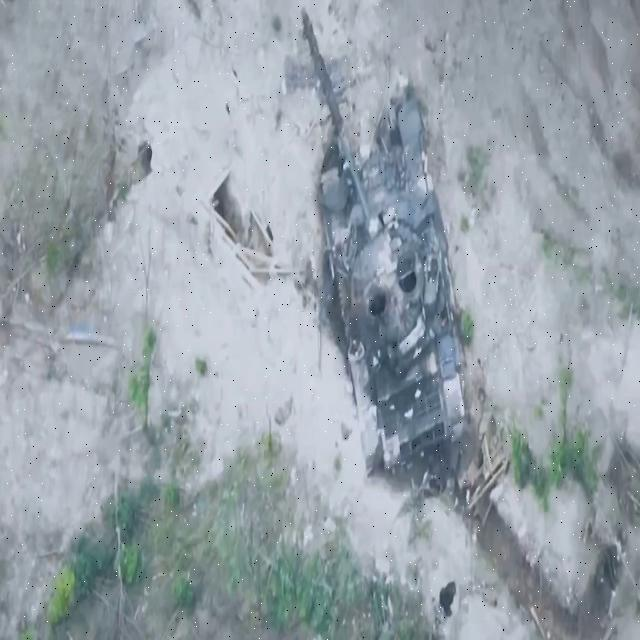MBT: (299, 7, 469, 480)
